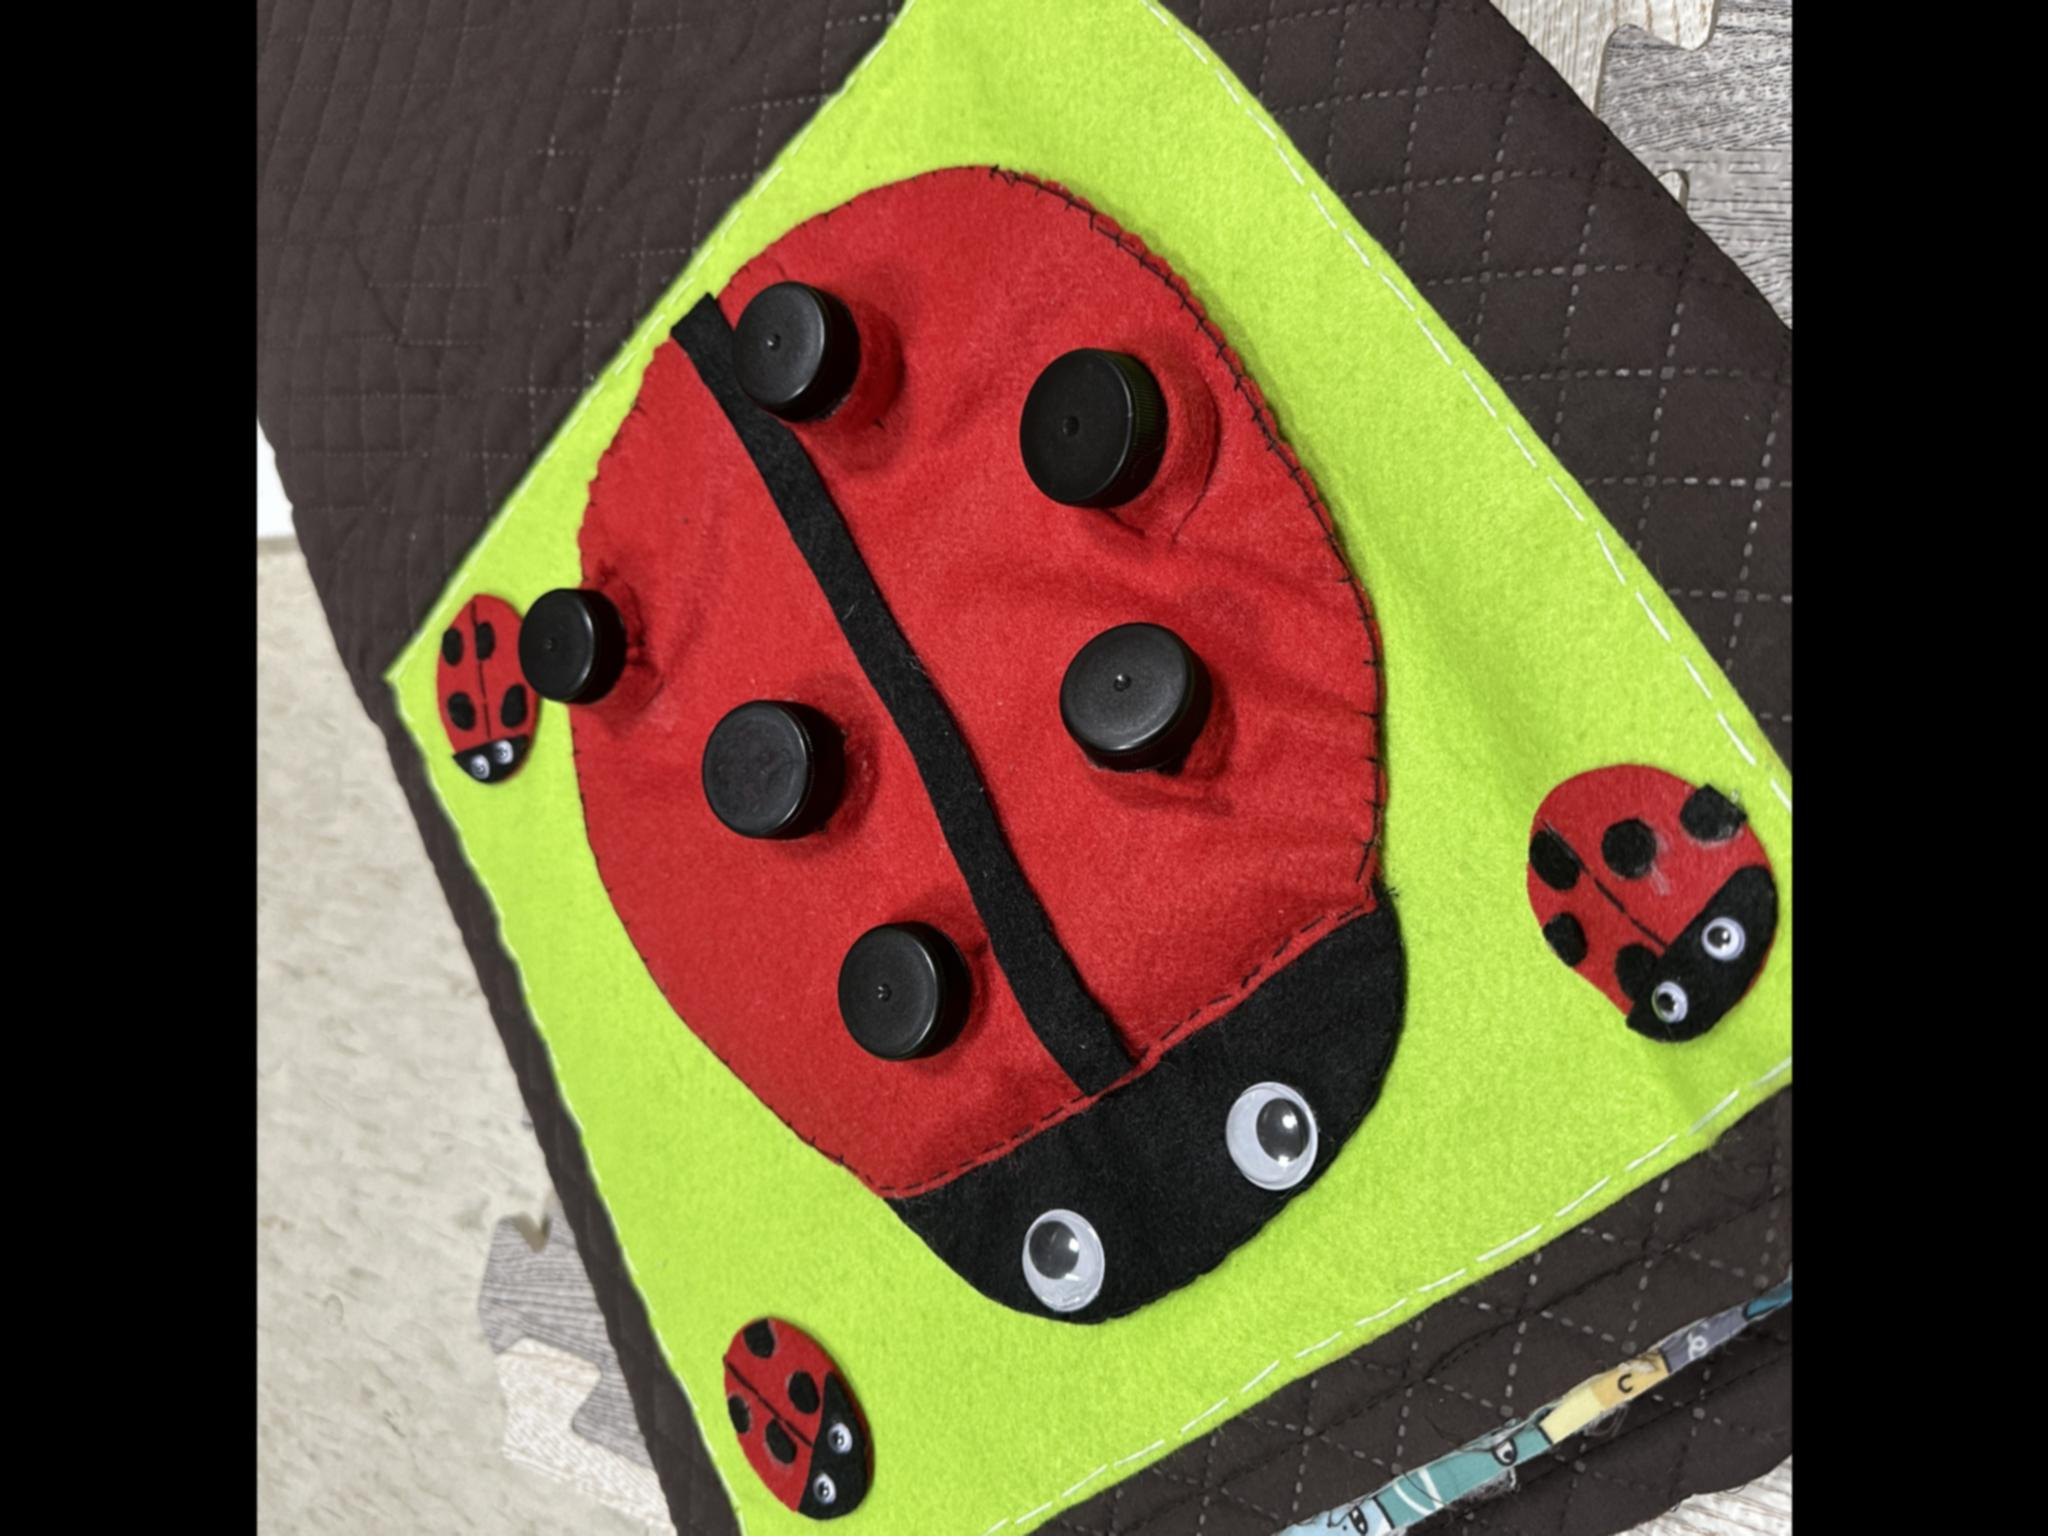cap_ok: (1005, 340, 1192, 547), (1048, 613, 1222, 820), (685, 692, 856, 863), (719, 273, 871, 442), (827, 920, 980, 1084), (502, 570, 650, 726)
